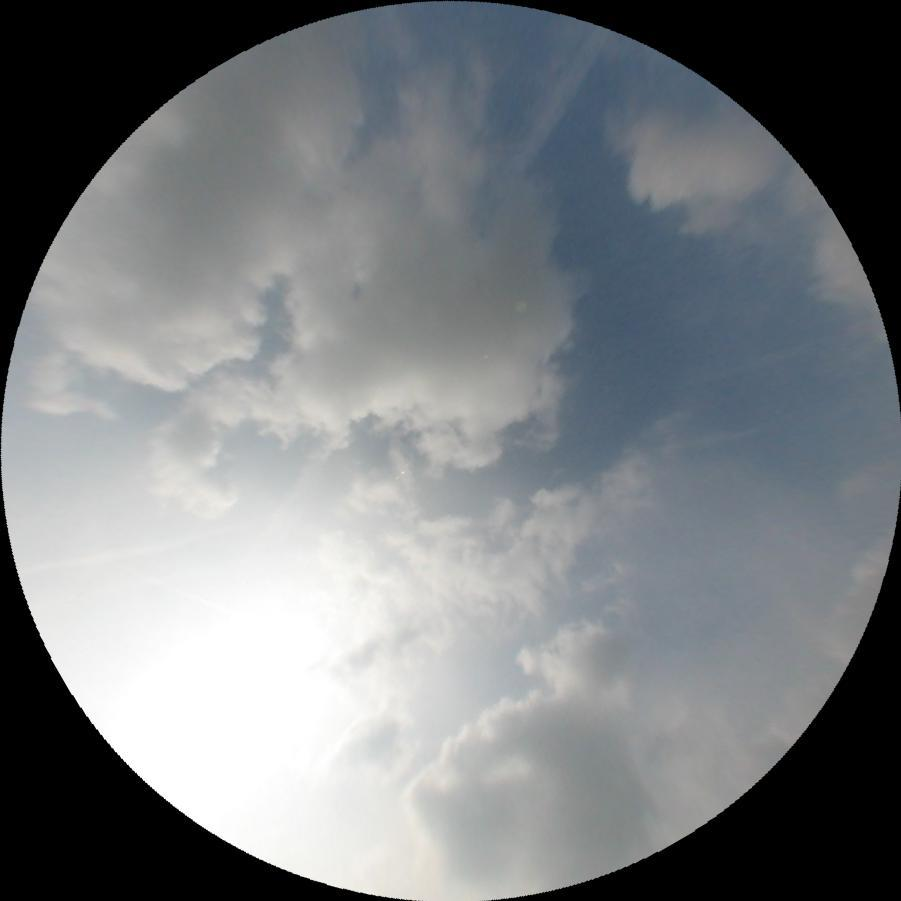contrail veryold: (224, 16, 615, 591), (687, 340, 801, 389)
contrail young: (115, 557, 220, 616)
sun: (70, 541, 390, 864)
unknow: (17, 518, 253, 582), (643, 409, 799, 461)
